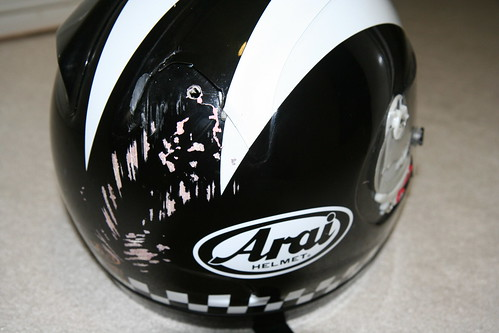helmet: (36, 2, 443, 326)
